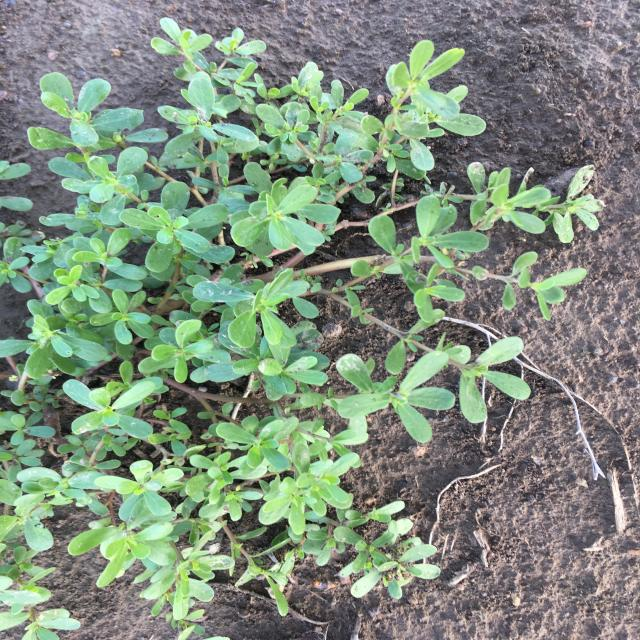Purslane: (1, 17, 604, 640)
